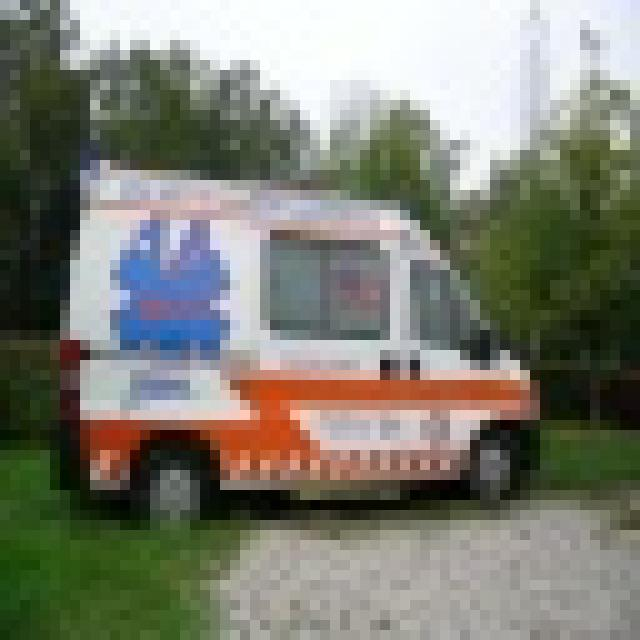Ambulance: (50, 150, 540, 520)
